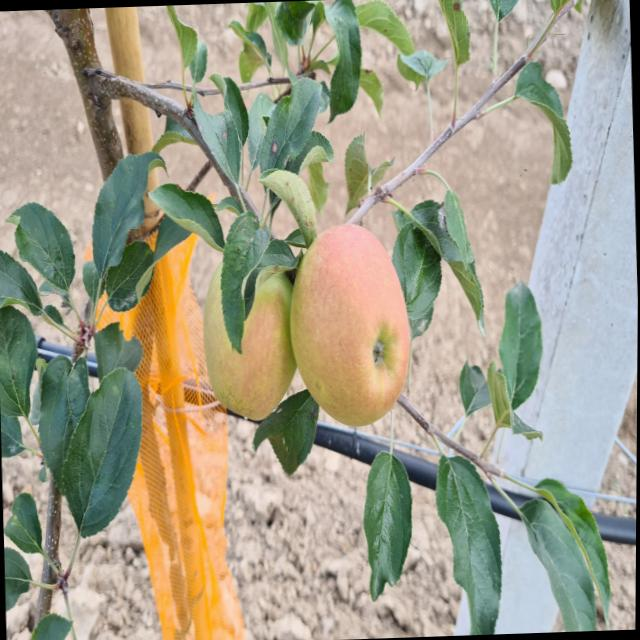Apple: (290, 223, 410, 426), (203, 264, 297, 420)
